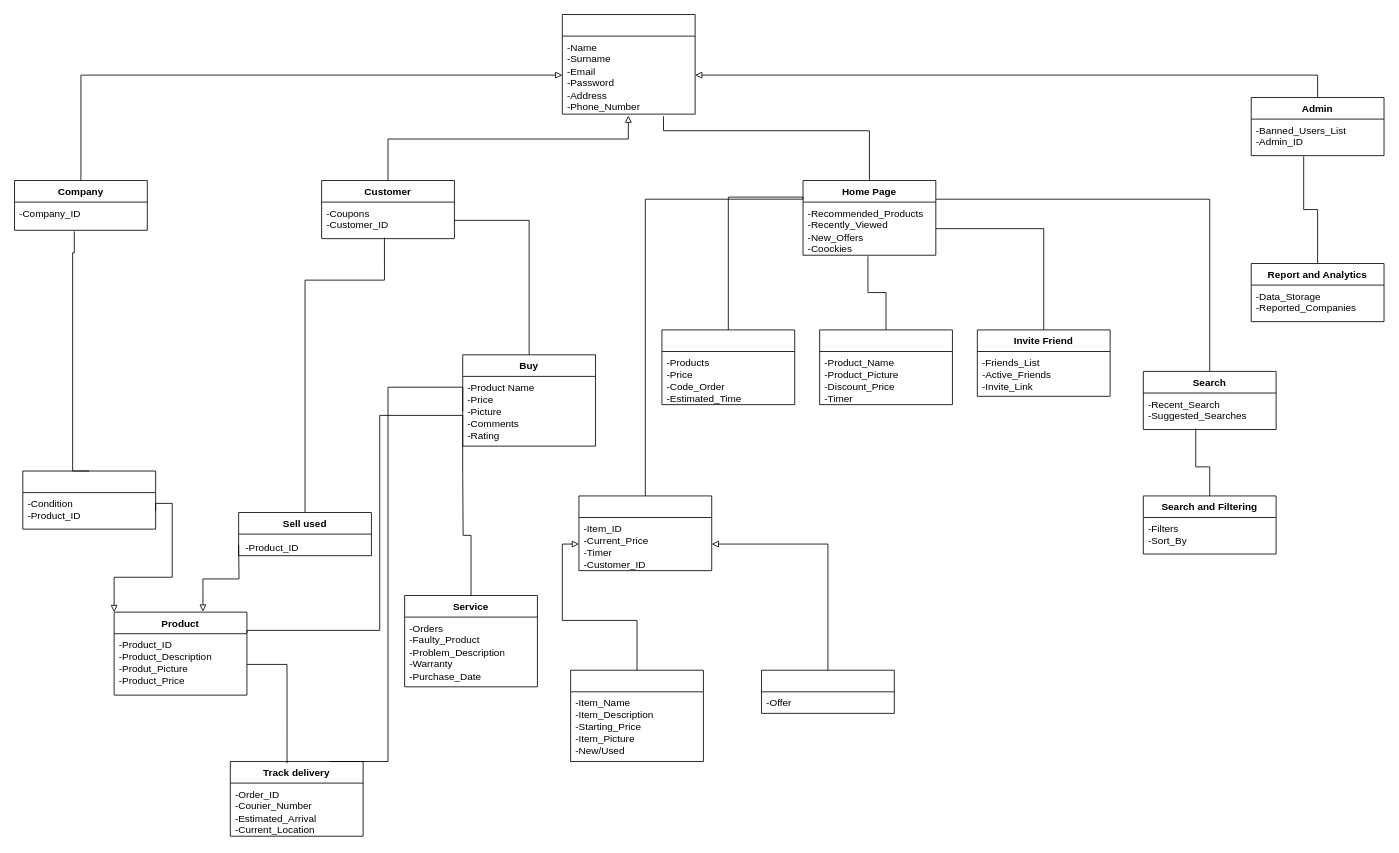
Some shapes in this 1399 by 853 pixel diagram are drawn without their labels. Here are the shapes that lost their labels. From the top down, the box of each, then its label:
(561, 14, 695, 114): User
(661, 329, 795, 405): Cart
(819, 329, 952, 405): Spin the Wheel
(22, 470, 156, 529): Sell new/used
(578, 495, 712, 571): Auction
(761, 669, 894, 713): Join
(570, 669, 703, 762): Create
